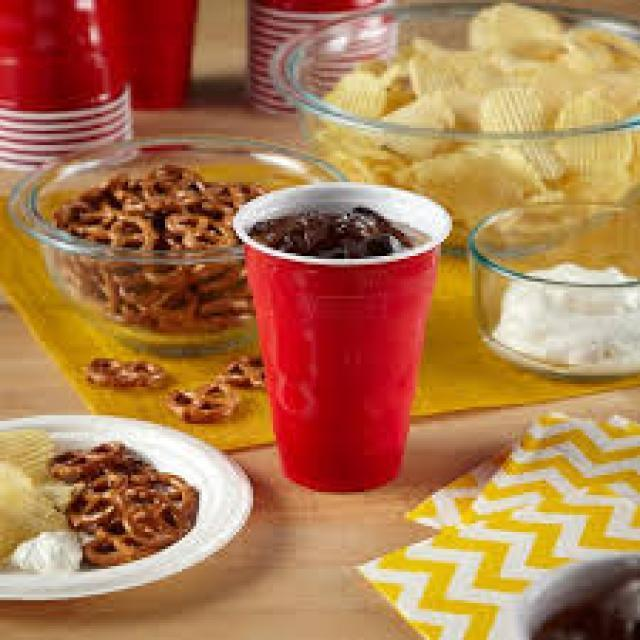cup: (220, 176, 476, 507)
